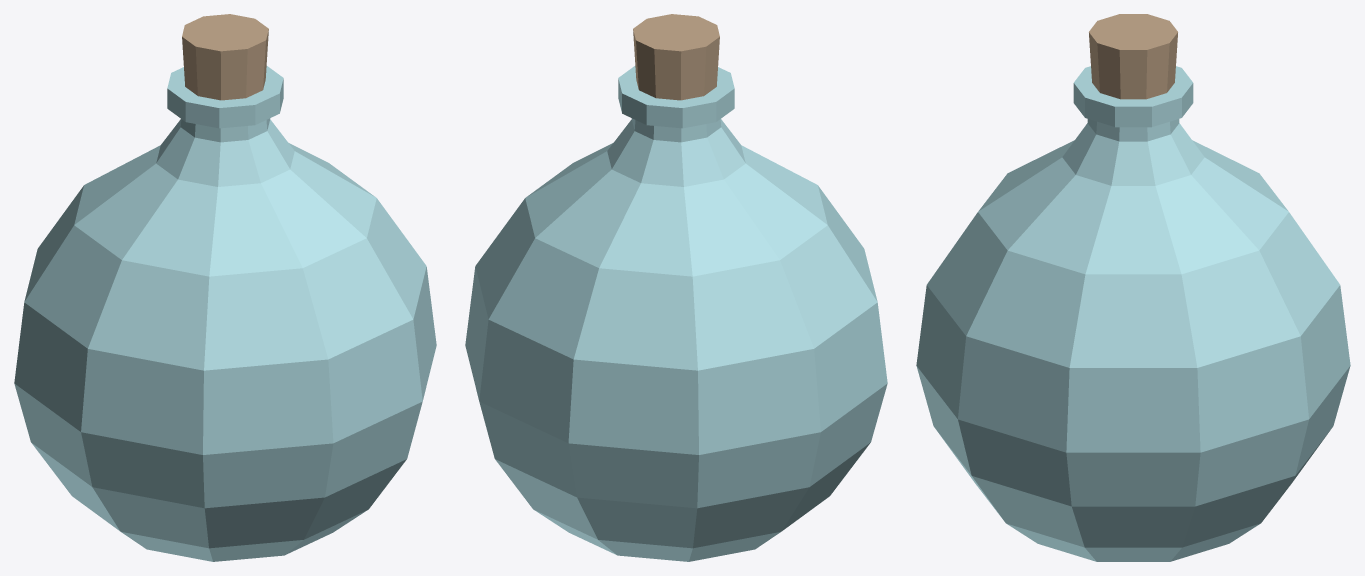
File: Bottle_02.fbx
3 renders of one model, left to right at view 1: azimuth 30°, elevation 25°; view 2: azimuth 150°, elevation 25°; view 3: azimuth 270°, elevation 25°, orthographic.
Parts seen in each view (by area): view 1: Bottle_02; view 2: Bottle_02; view 3: Bottle_02.
Part boxes in pixels (bbox=[...]): Bottle_02: bbox=[14, 14, 436, 561]; Bottle_02: bbox=[465, 14, 887, 561]; Bottle_02: bbox=[916, 14, 1350, 561].
Bounding box in the file's own units: 4.69 × 6.04 × 4.93.
